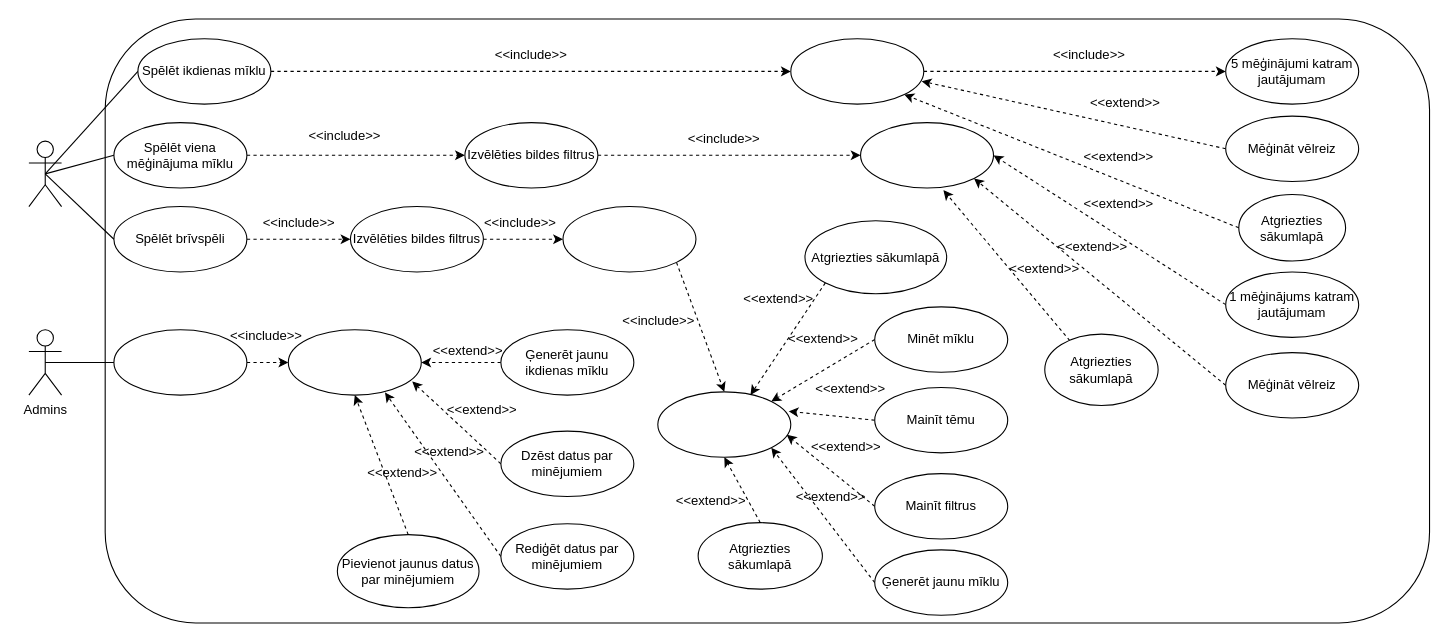
This 1449x642 diagram has some shape labels left out. Here are the shapes that lost their labels. From the top down, the centre of each, then its label:
pixel 857 71: Atbildēt 5 gatavas mīklas
pixel 45 173: Spēlētājs
pixel 926 155: Atbildēt 5 randomizētas mīklas
pixel 629 238: Izvēlēties tēmu
pixel 180 362: Ielogoties admin kontā
pixel 354 362: Admin panelis
pixel 724 424: Sākt minēt
